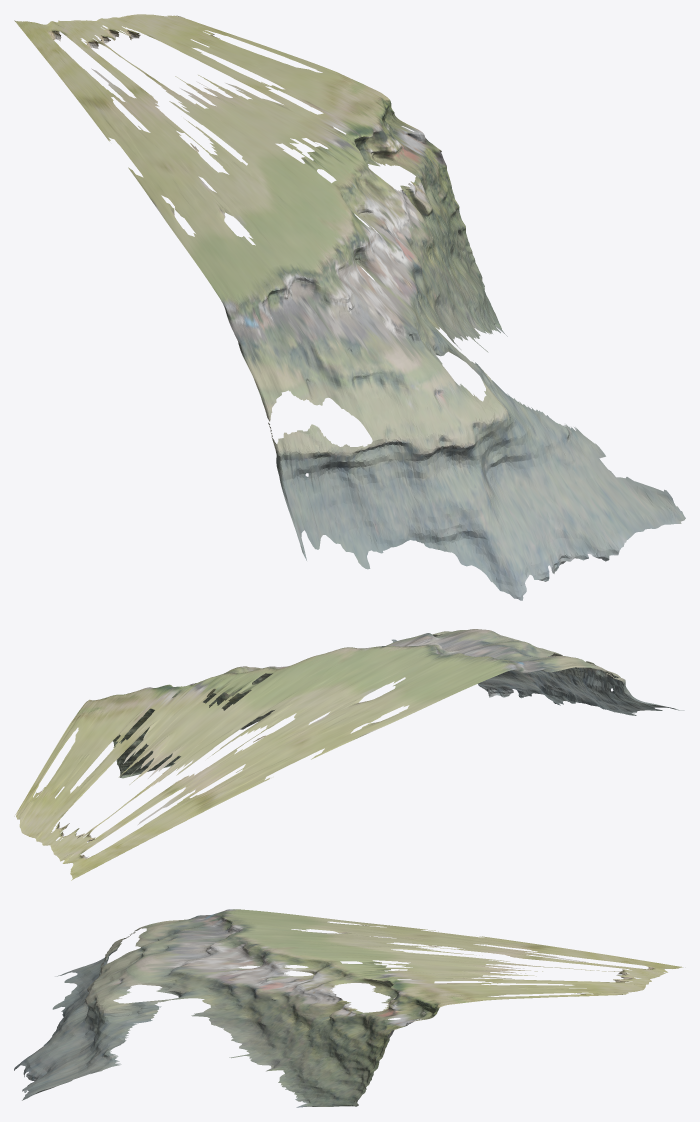
The model's file is render.glb.
3 renders of one model, top to bottom at view 1: azimuth 30°, elevation 25°; view 2: azimuth 150°, elevation 25°; view 3: azimuth 270°, elevation 25°, orthographic. The views are drawn at different scales.
Parts seen in each view (by area): view 1: geometry_0; view 2: geometry_0; view 3: geometry_0.
Part boxes in pixels (x1,y1,x2,y2): geometry_0: [14, 14, 685, 600]; geometry_0: [14, 629, 684, 880]; geometry_0: [14, 909, 682, 1107].
Bounding box in the file's own units: 0.5874 × 0.2825 × 1.31.
